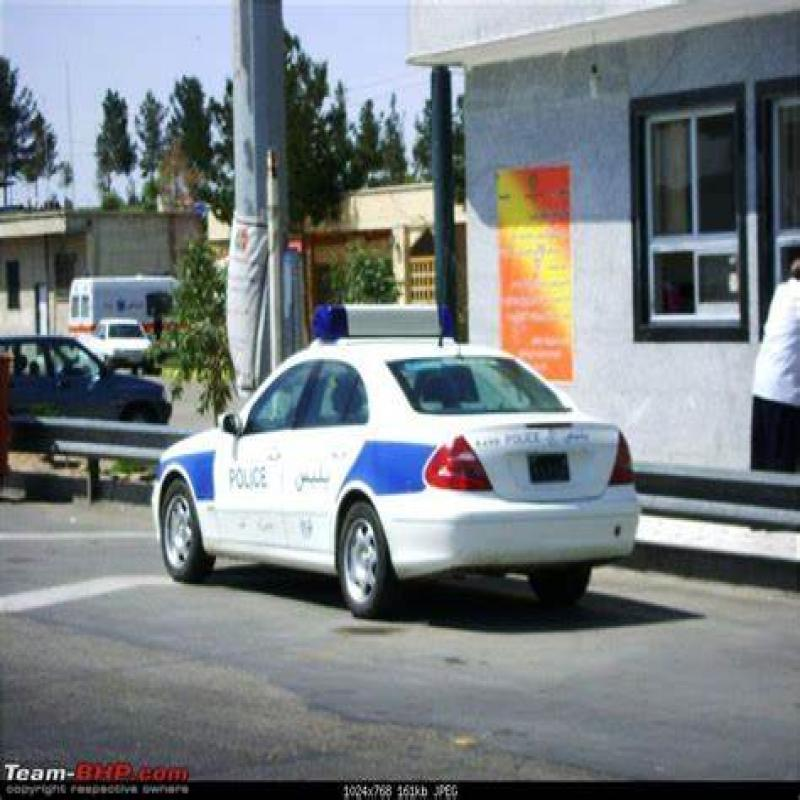AmbulanceSiren: (311, 284, 454, 340)
